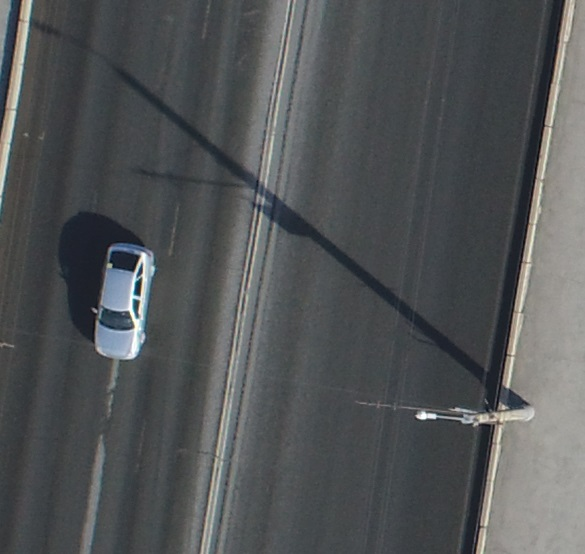opora: (408, 337, 539, 430)
